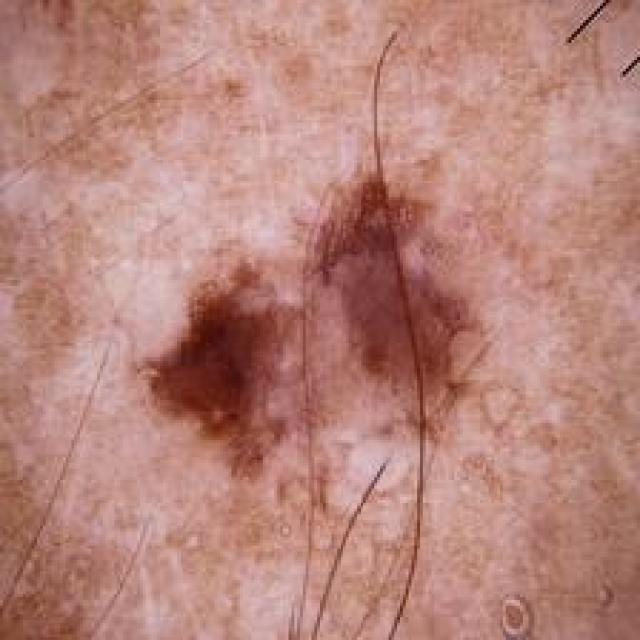Cancer: (126, 162, 499, 508)
